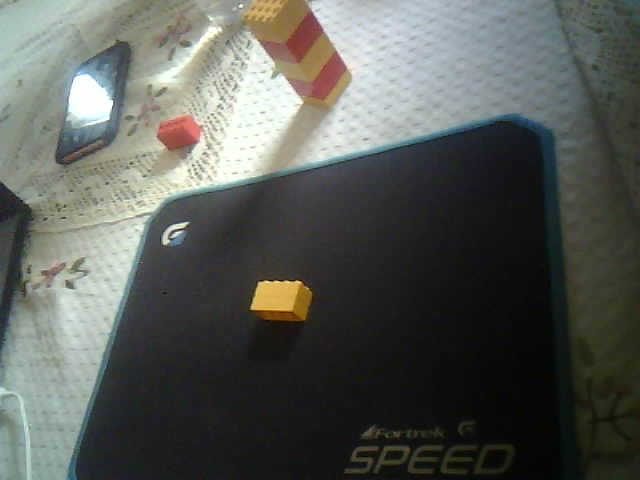lego: (242, 1, 353, 109), (249, 278, 313, 322), (154, 115, 201, 150)
